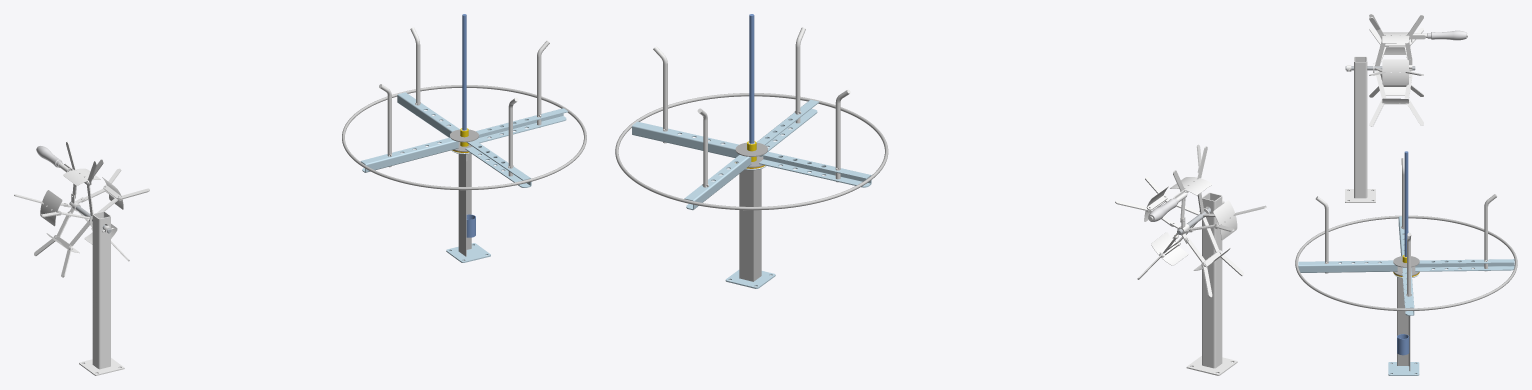
3 views of the same model, side by side, from view 1: azimuth 30°, elevation 25°; view 2: azimuth 150°, elevation 25°; view 3: azimuth 270°, elevation 25° (orthographic). The views are drawn at different scales.
Visible parts, largest first — view 1: Stand - U Chanell (×4), ÃÂÃÂÃÂÃÂ§ÃÂÃÂ¼ÃÂÃÂ-16S, Stand - External Ring 0.313, Stand - Base Angle 1.5x1.5x0.125, Stand - Center Galvanized Bar 0.438, Stand - Base Plate 3.5x3.5x0.125, ÃÂÃÂÃÂÃÂ¤ÃÂÃÂ°ÃÂÃÂ¥-8S; view 2: Stand - U Chanell (×4), ÃÂÃÂÃÂÃÂ§ÃÂÃÂ¼ÃÂÃÂ-16S, Stand - Base Angle 1.5x1.5x0.125, Stand - External Ring 0.313, ÃÂÃÂÃÂÃÂ¤ÃÂÃÂ°ÃÂÃÂ¥-8S (×2), Stand - Bent Galvanized Bar 0.438 (×2), Stand - Center Galvanized Bar 0.438; view 3: Stand - U Chanell (×3), ÃÂÃÂÃÂÃÂ§ÃÂÃÂ¼ÃÂÃÂ-16S, Stand - External Ring 0.313, Stand - Bent Galvanized Bar 0.438 (×4), ÃÂÃÂÃÂÃÂ¤ÃÂÃÂ°ÃÂÃÂ¥-8S (×2), Stand - Base Angle 1.5x1.5x0.125, Stand - Center Galvanized Bar 0.438, ÃÂÃÂ»ÃÂÃÂ®ÃÂÃÂ¶ÃÂÃÂ¯ÃÂÃÂµÃÂÃÂ²ÃÂÃÂ°ÃÂÃÂ¥-8S (×2), Stand - Base Plate 3.5x3.5x0.125, ÃÂÃÂÃÂÃÂÃÂÃÂ±ÃÂÃÂº-8S, ÃÂÃÂ¹ÃÂÃÂÃÂÃÂ¶ÃÂÃÂ¨ÃÂÃÂµÃÂÃÂ²ÃÂÃÂ°ÃÂÃÂ¥-8S, Stand - Tube Holder 1.375x0.0625.
Boxes of the visible parts, x1=… form: Stand - U Chanell (×4): x1=360, y1=92, x2=568, y2=187; ÃÂÃÂÃÂÃÂ§ÃÂÃÂ¼ÃÂÃÂ-16S: x1=79, y1=211, x2=124, y2=375; Stand - External Ring 0.313: x1=342, y1=85, x2=586, y2=190; Stand - Base Angle 1.5x1.5x0.125: x1=458, y1=153, x2=471, y2=256; Stand - Center Galvanized Bar 0.438: x1=462, y1=14, x2=466, y2=130; Stand - Base Plate 3.5x3.5x0.125: x1=446, y1=243, x2=490, y2=262; ÃÂÃÂÃÂÃÂ¤ÃÂÃÂ°ÃÂÃÂ¥-8S: x1=40, y1=190, x2=62, y2=226; Stand - U Chanell (×4): x1=632, y1=99, x2=871, y2=210; ÃÂÃÂÃÂÃÂ§ÃÂÃÂ¼ÃÂÃÂ-16S: x1=1186, y1=192, x2=1237, y2=375; Stand - Base Angle 1.5x1.5x0.125: x1=739, y1=169, x2=761, y2=281; Stand - External Ring 0.313: x1=615, y1=93, x2=888, y2=210; ÃÂÃÂÃÂÃÂ¤ÃÂÃÂ°ÃÂÃÂ¥-8S (×2): x1=1151, y1=200, x2=1237, y2=265; Stand - Bent Galvanized Bar 0.438 (×2): x1=794, y1=27, x2=850, y2=182; Stand - Center Galvanized Bar 0.438: x1=749, y1=14, x2=754, y2=143; Stand - U Chanell (×3): x1=1298, y1=259, x2=1514, y2=315; ÃÂÃÂÃÂÃÂ§ÃÂÃÂ¼ÃÂÃÂ-16S: x1=1345, y1=56, x2=1375, y2=202; Stand - External Ring 0.313: x1=1295, y1=215, x2=1517, y2=311; Stand - Bent Galvanized Bar 0.438 (×4): x1=1315, y1=158, x2=1497, y2=296; ÃÂÃÂÃÂÃÂ¤ÃÂÃÂ°ÃÂÃÂ¥-8S (×2): x1=1382, y1=32, x2=1408, y2=85; Stand - Base Angle 1.5x1.5x0.125: x1=1397, y1=277, x2=1410, y2=370; Stand - Center Galvanized Bar 0.438: x1=1404, y1=151, x2=1408, y2=256; ÃÂÃÂ»ÃÂÃÂ®ÃÂÃÂ¶ÃÂÃÂ¯ÃÂÃÂµÃÂÃÂ²ÃÂÃÂ°ÃÂÃÂ¥-8S (×2): x1=1404, y1=15, x2=1423, y2=125; Stand - Base Plate 3.5x3.5x0.125: x1=1388, y1=362, x2=1419, y2=375; ÃÂÃÂÃÂÃÂÃÂÃÂ±ÃÂÃÂº-8S: x1=1427, y1=30, x2=1466, y2=40; ÃÂÃÂ¹ÃÂÃÂÃÂÃÂ¶ÃÂÃÂ¨ÃÂÃÂµÃÂÃÂ²ÃÂÃÂ°ÃÂÃÂ¥-8S: x1=1369, y1=70, x2=1386, y2=126; Stand - Tube Holder 1.375x0.0625: x1=1397, y1=334, x2=1409, y2=355.
Bounding box in the file's own units: 1.65 × 0.6858 × 0.6395.
